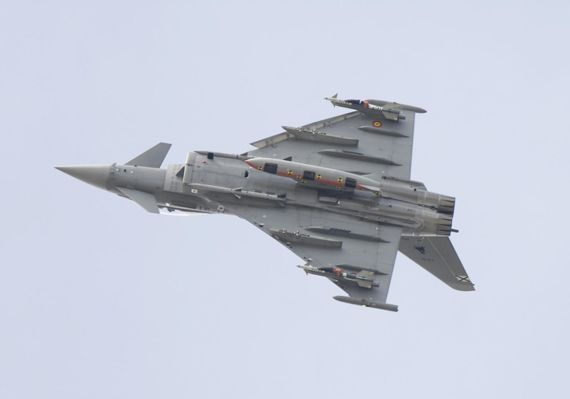airplane: (49, 93, 468, 312)
